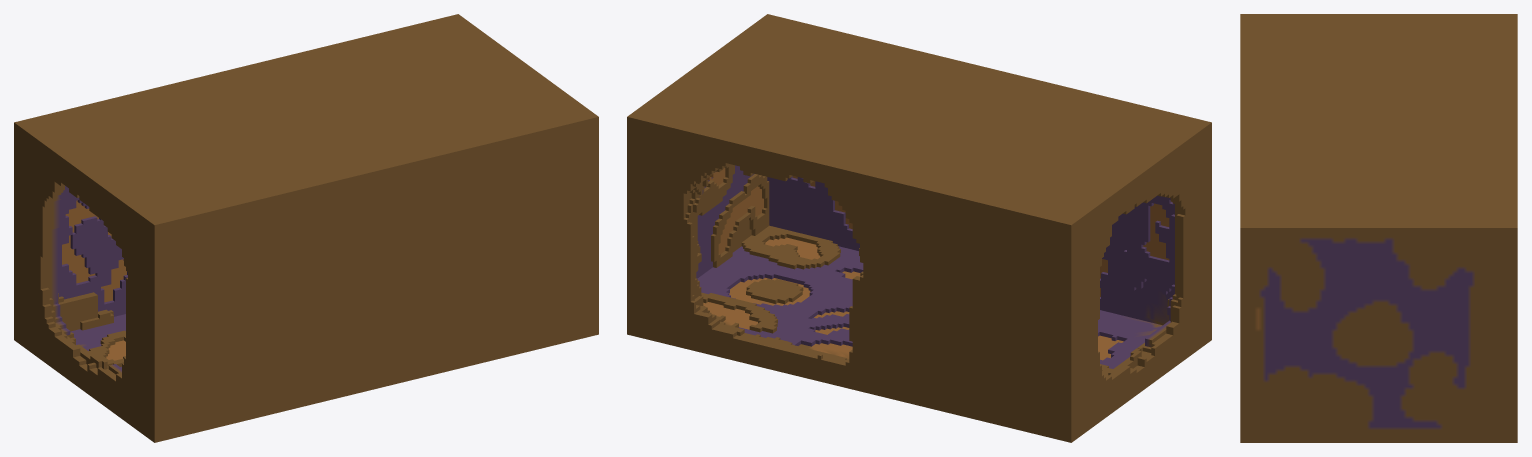
Rendered from Level3_corner_template_v1.dae.
The picture shows the model from 3 angles, left to right: view 1: azimuth 30°, elevation 25°; view 2: azimuth 150°, elevation 25°; view 3: azimuth 270°, elevation 25°; orthographic projection.
Parts seen in each view (by area): view 1: level3_corner_template_v1.level_3_template_corner_v6; view 2: level3_corner_template_v1.level_3_template_corner_v6; view 3: level3_corner_template_v1.level_3_template_corner_v6.
Part boxes in pixels (x1,y1,x2,y2): level3_corner_template_v1.level_3_template_corner_v6: [14, 14, 598, 442]; level3_corner_template_v1.level_3_template_corner_v6: [627, 14, 1211, 442]; level3_corner_template_v1.level_3_template_corner_v6: [1240, 14, 1517, 442].
Bounding box in the file's own units: 12.6 × 5.9 × 6.9.
Materials: 1 (1 with a texture image).
